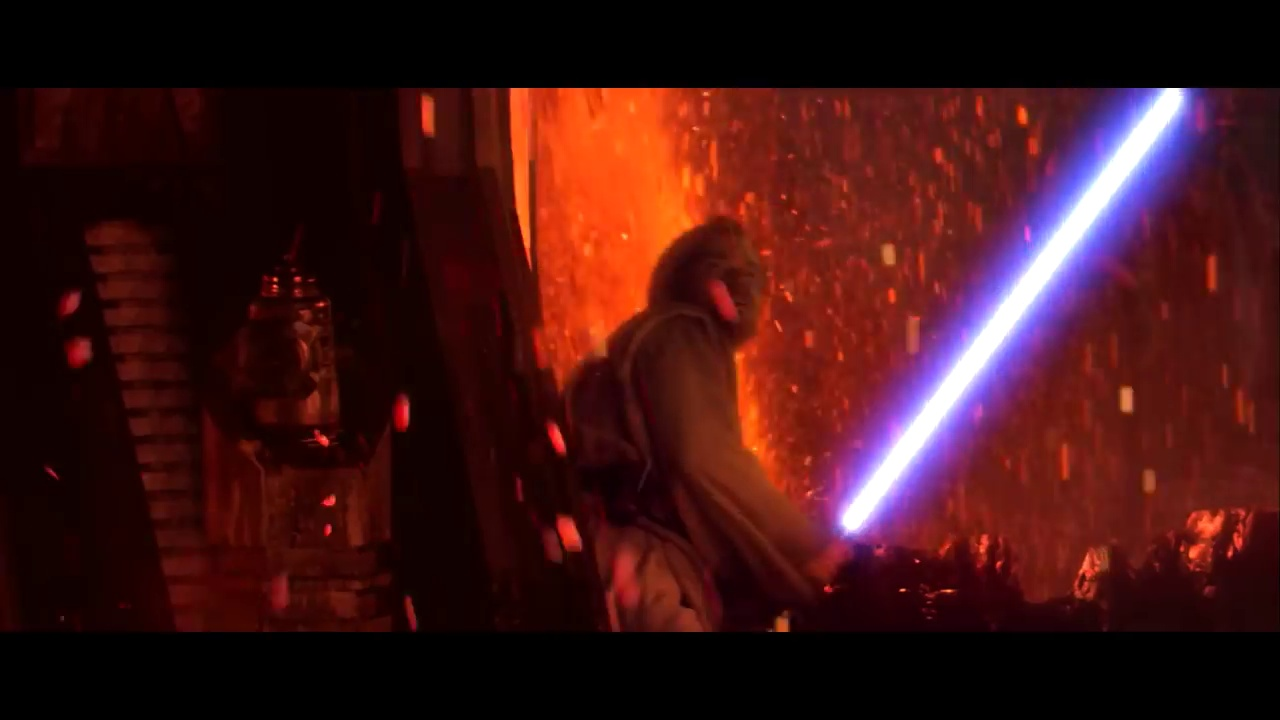lightsaber: (785, 88, 1206, 602)
